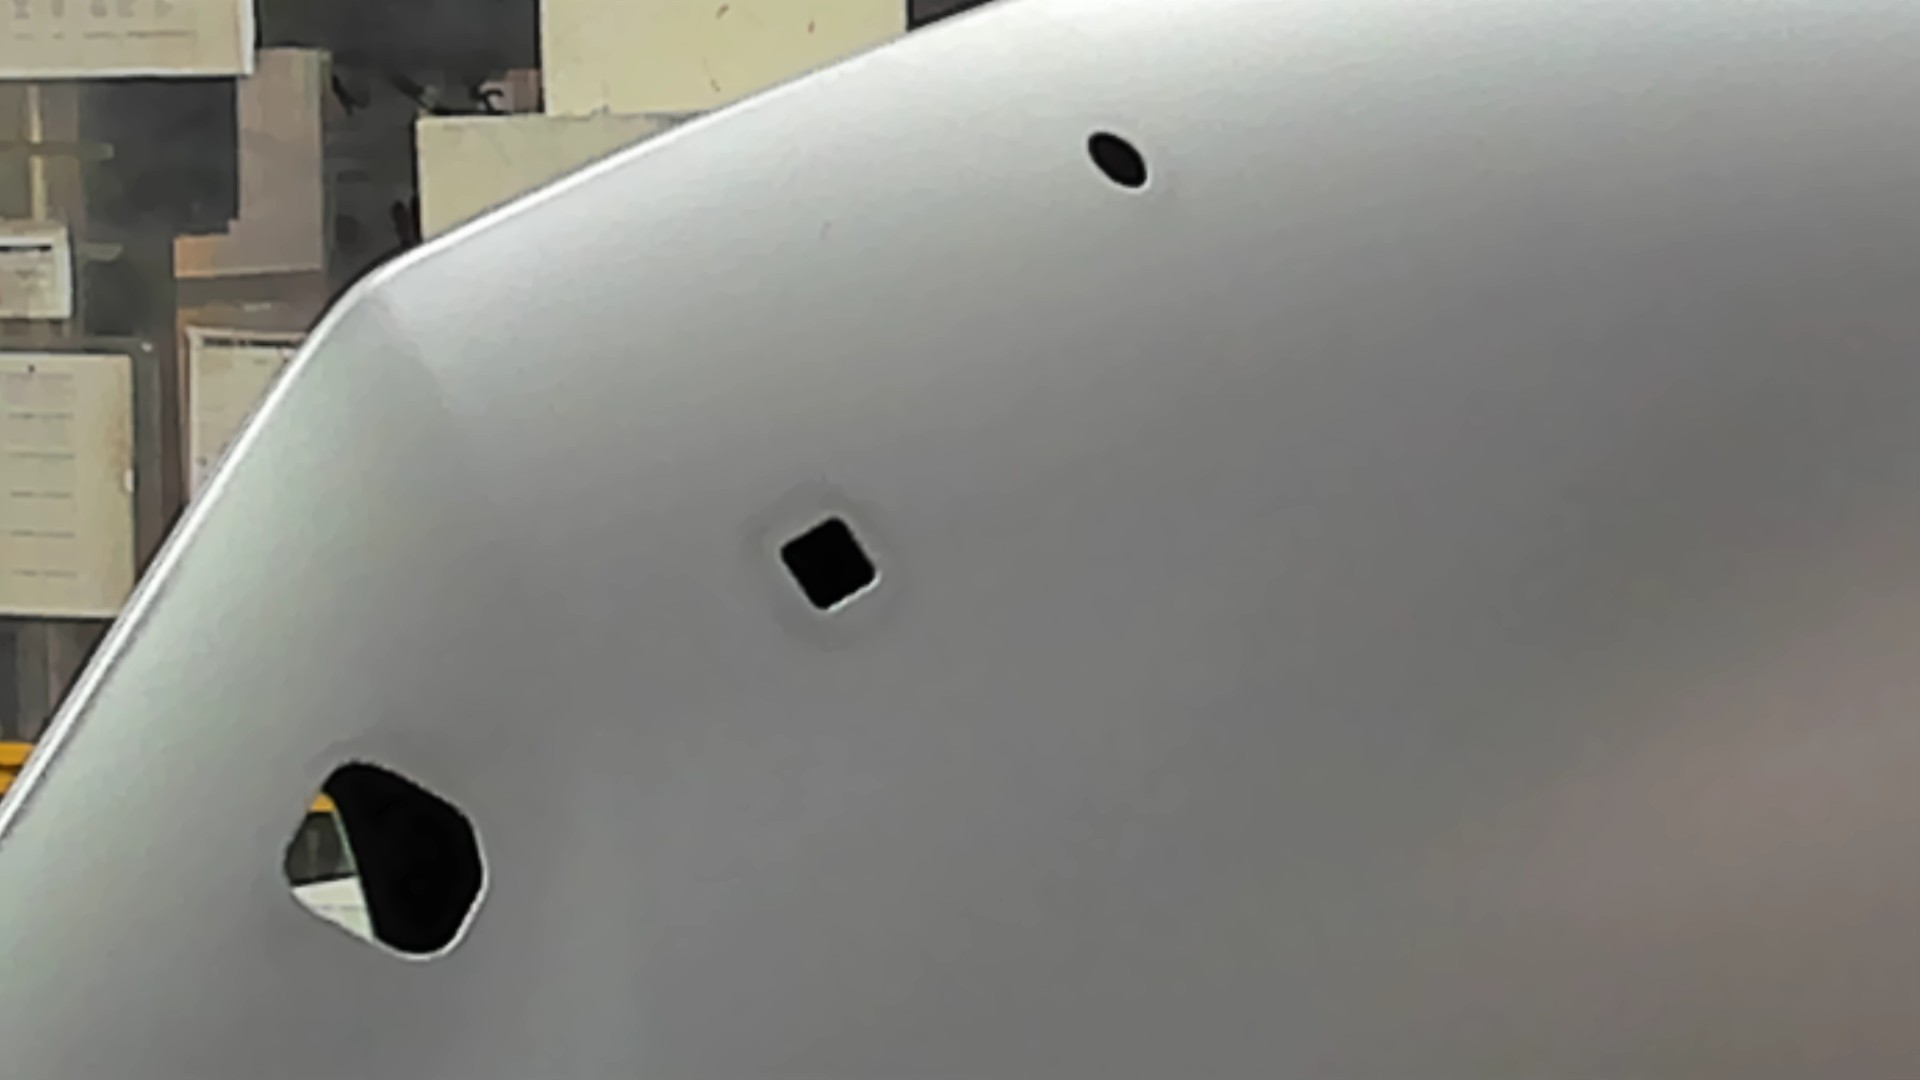chico: (1085, 127, 1149, 193)
grande: (277, 756, 495, 967)
mediano: (775, 512, 884, 616)
